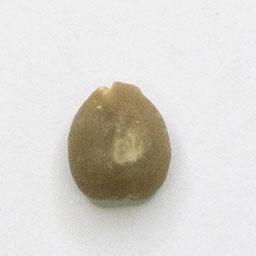premium: (63, 79, 175, 206)
